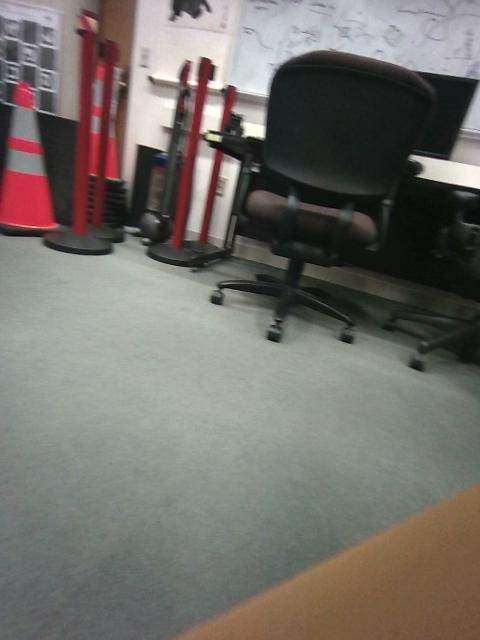block: (8, 257, 42, 323)
